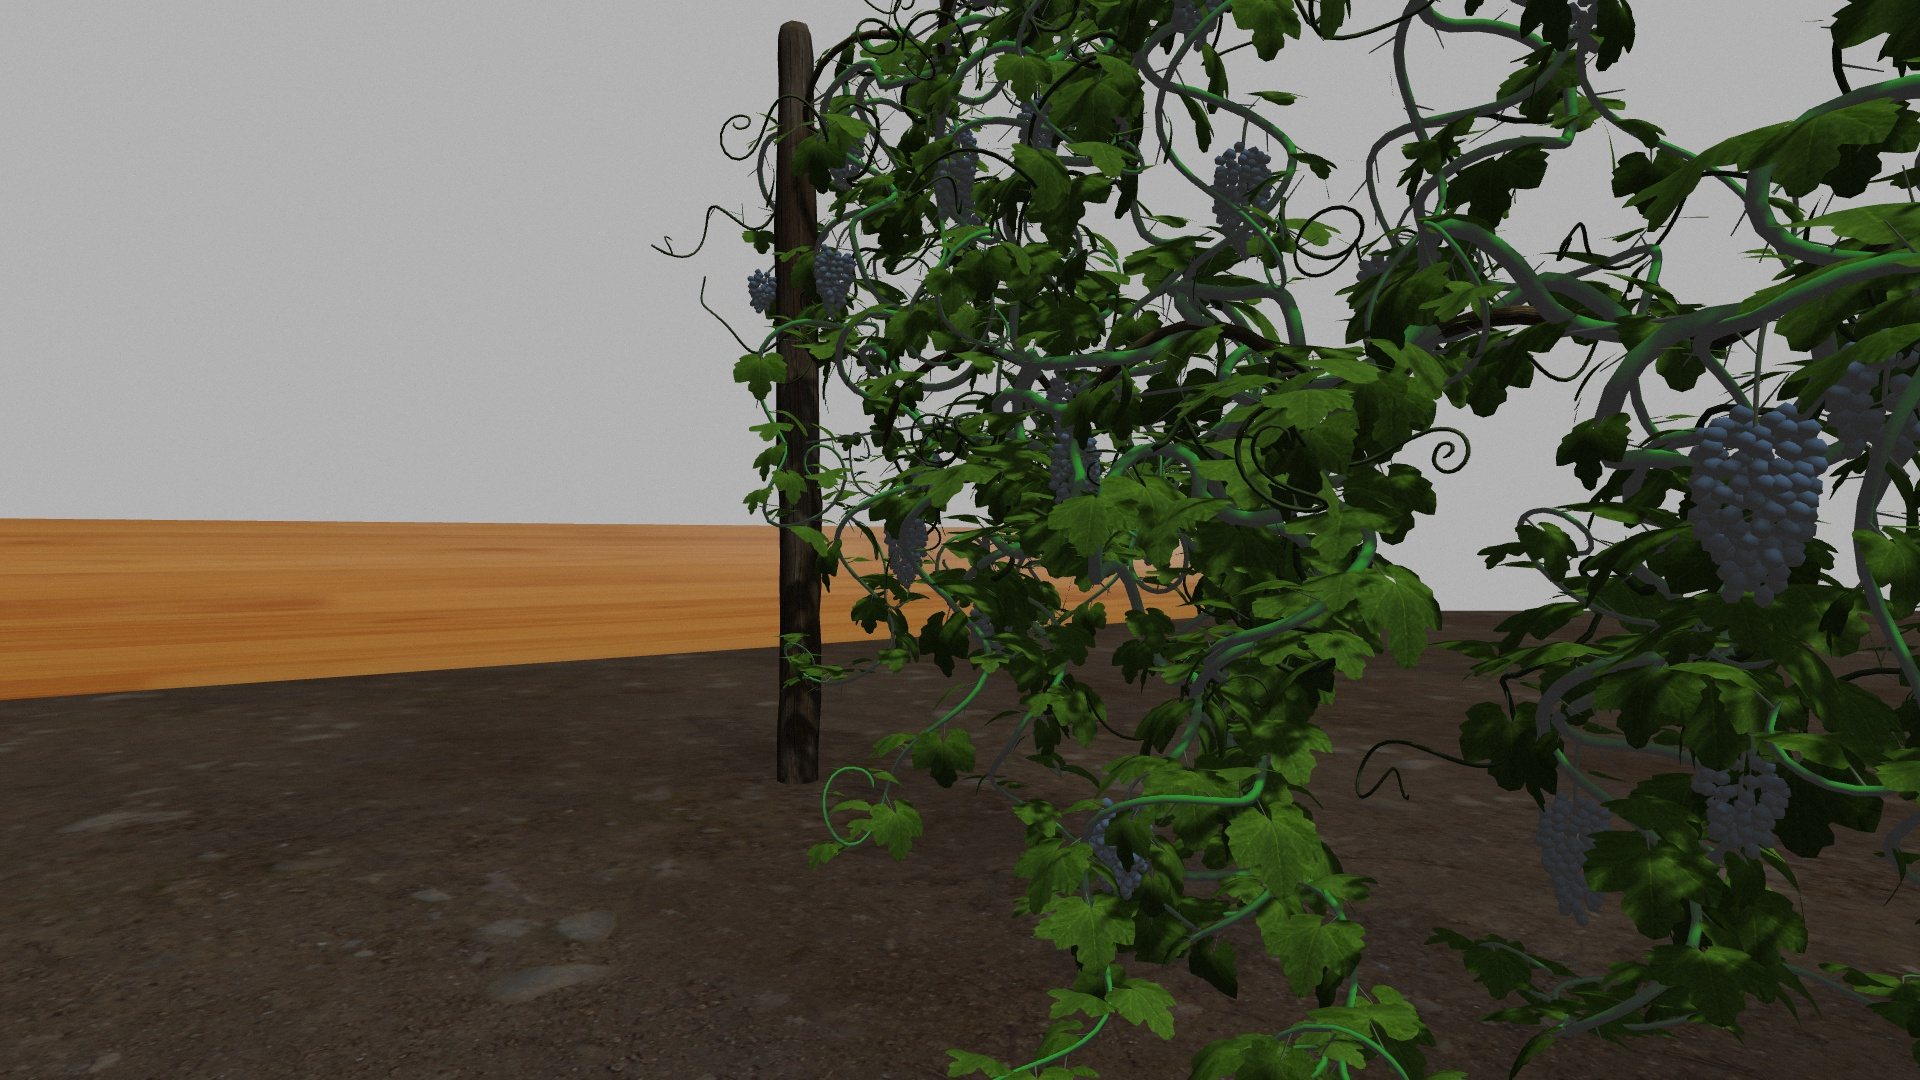grape: (1687, 400, 1826, 612), (1826, 352, 1912, 483), (1695, 749, 1785, 872), (1534, 796, 1617, 930), (1209, 140, 1278, 245), (1093, 800, 1150, 899), (936, 127, 981, 214), (882, 516, 930, 591), (814, 245, 856, 318), (745, 266, 781, 313)
